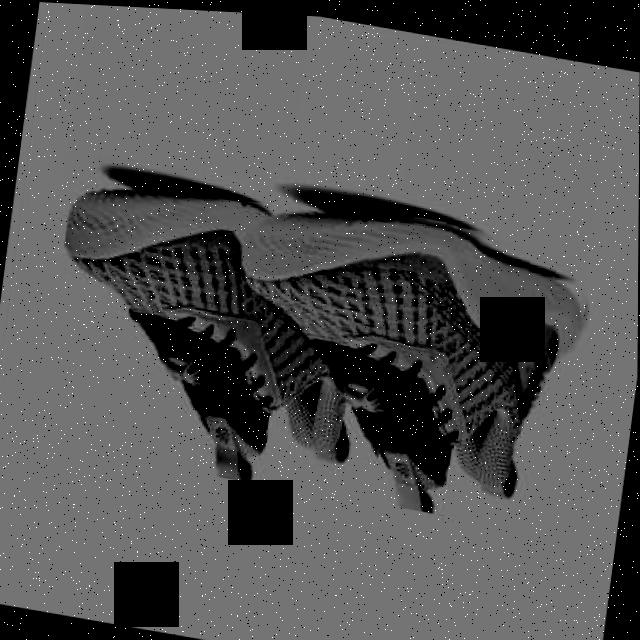shoe: (215, 179, 596, 530), (38, 165, 426, 503)
